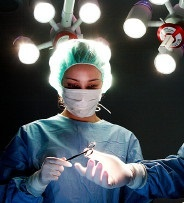Mask: (60, 71, 107, 118)
